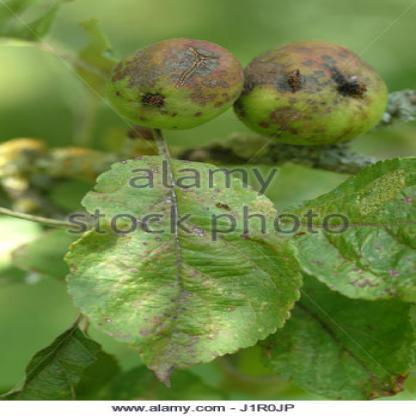Apple Scab Leaf: (64, 152, 314, 385), (272, 161, 414, 287)
